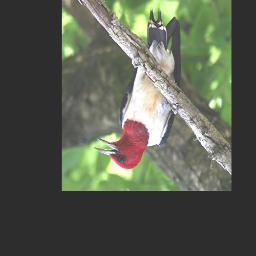Woodpecker: (91, 6, 185, 169)
